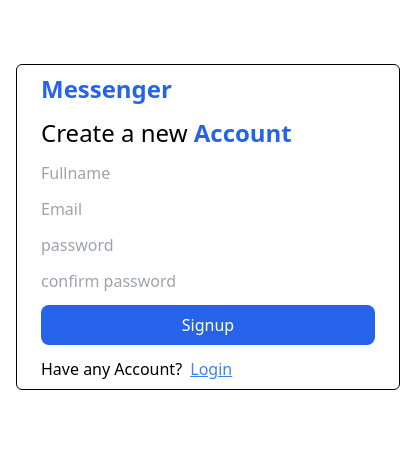
Test case: Signup › shows required validation when submitted empty
This screenshot has width=417, height=455.
Click the button showing "Signup": (208, 325) [41,305,375,345]
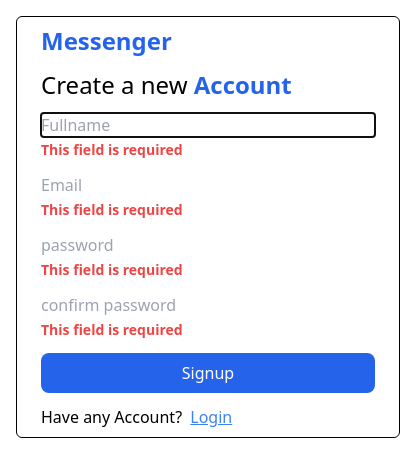
Now the text "This field is required" is shown 4 times, box [41,140,183,159]; [41,200,183,219]; [41,260,183,279]; [41,320,183,339]
